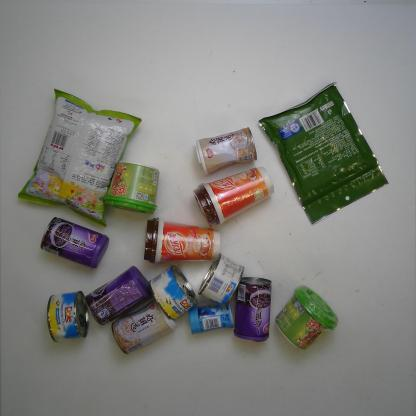Canned Food: (82, 264, 154, 328), (37, 214, 114, 270), (109, 304, 180, 358), (193, 125, 260, 175), (143, 266, 198, 322), (232, 272, 274, 342), (42, 288, 91, 344), (197, 253, 245, 307)
Dried Fruit: (258, 80, 391, 228)
Gum: (187, 300, 236, 336)
Instant Drink: (188, 166, 278, 230), (270, 284, 342, 352), (142, 214, 222, 264), (99, 160, 165, 216)
Puffed Food: (14, 86, 143, 230)
